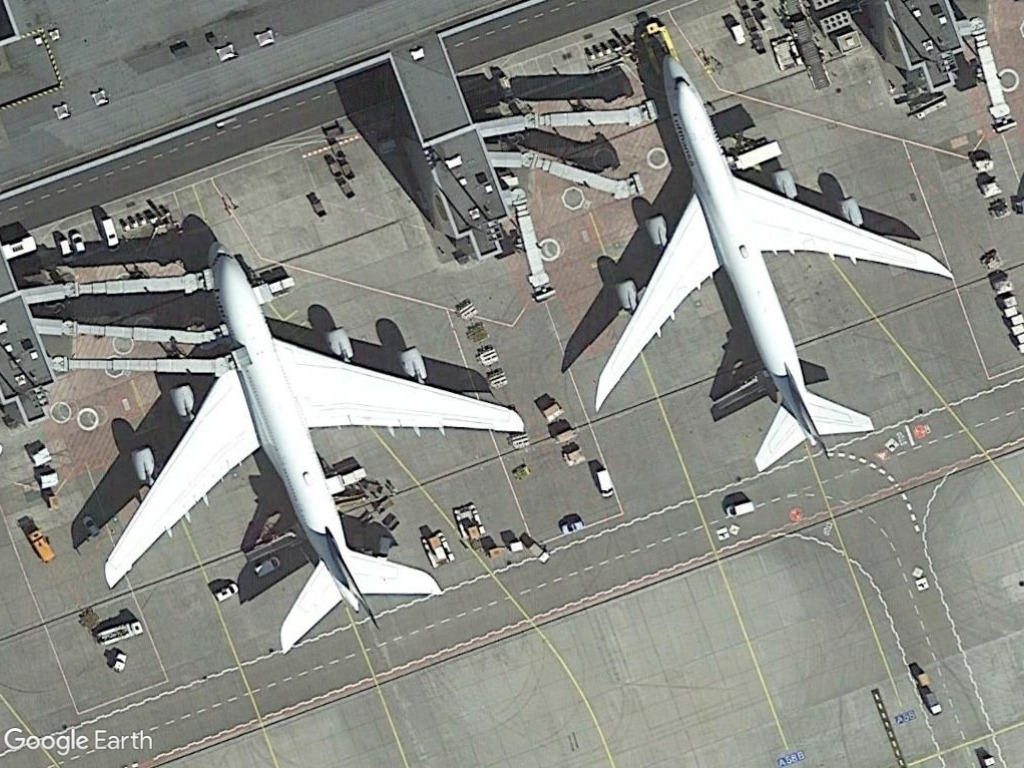airliner: (590, 34, 958, 528), (96, 240, 533, 653)
truck: (24, 527, 57, 566)
